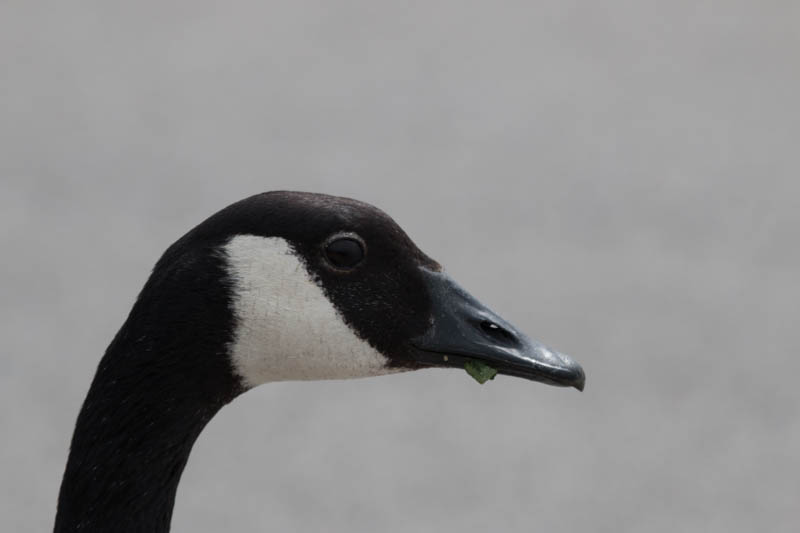goose-head: (93, 190, 586, 388)
